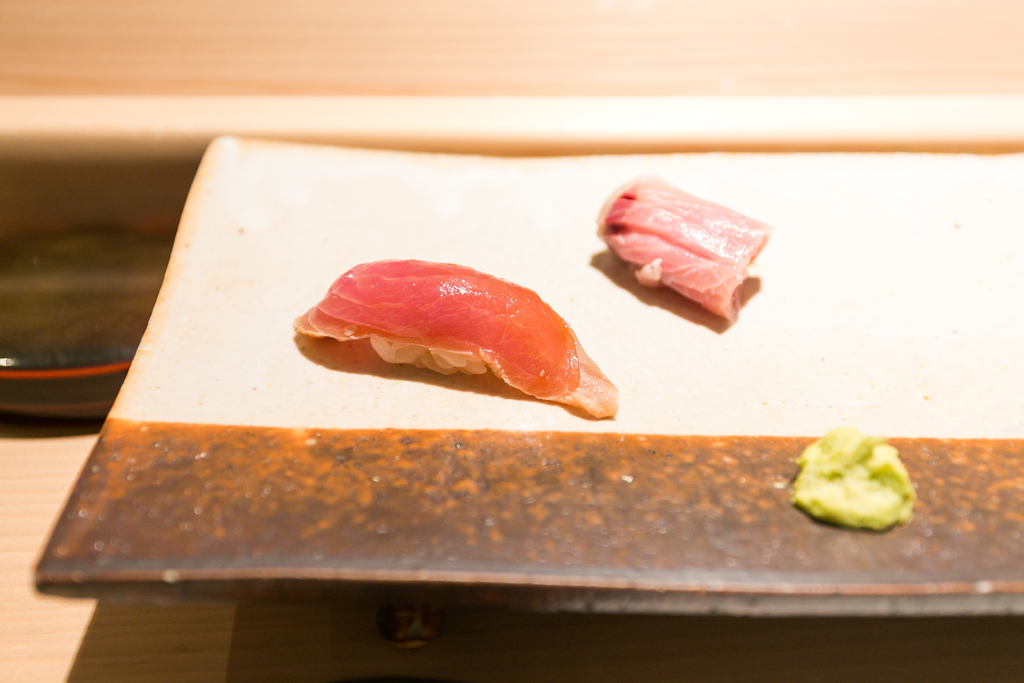sushi: (306, 254, 609, 402)
